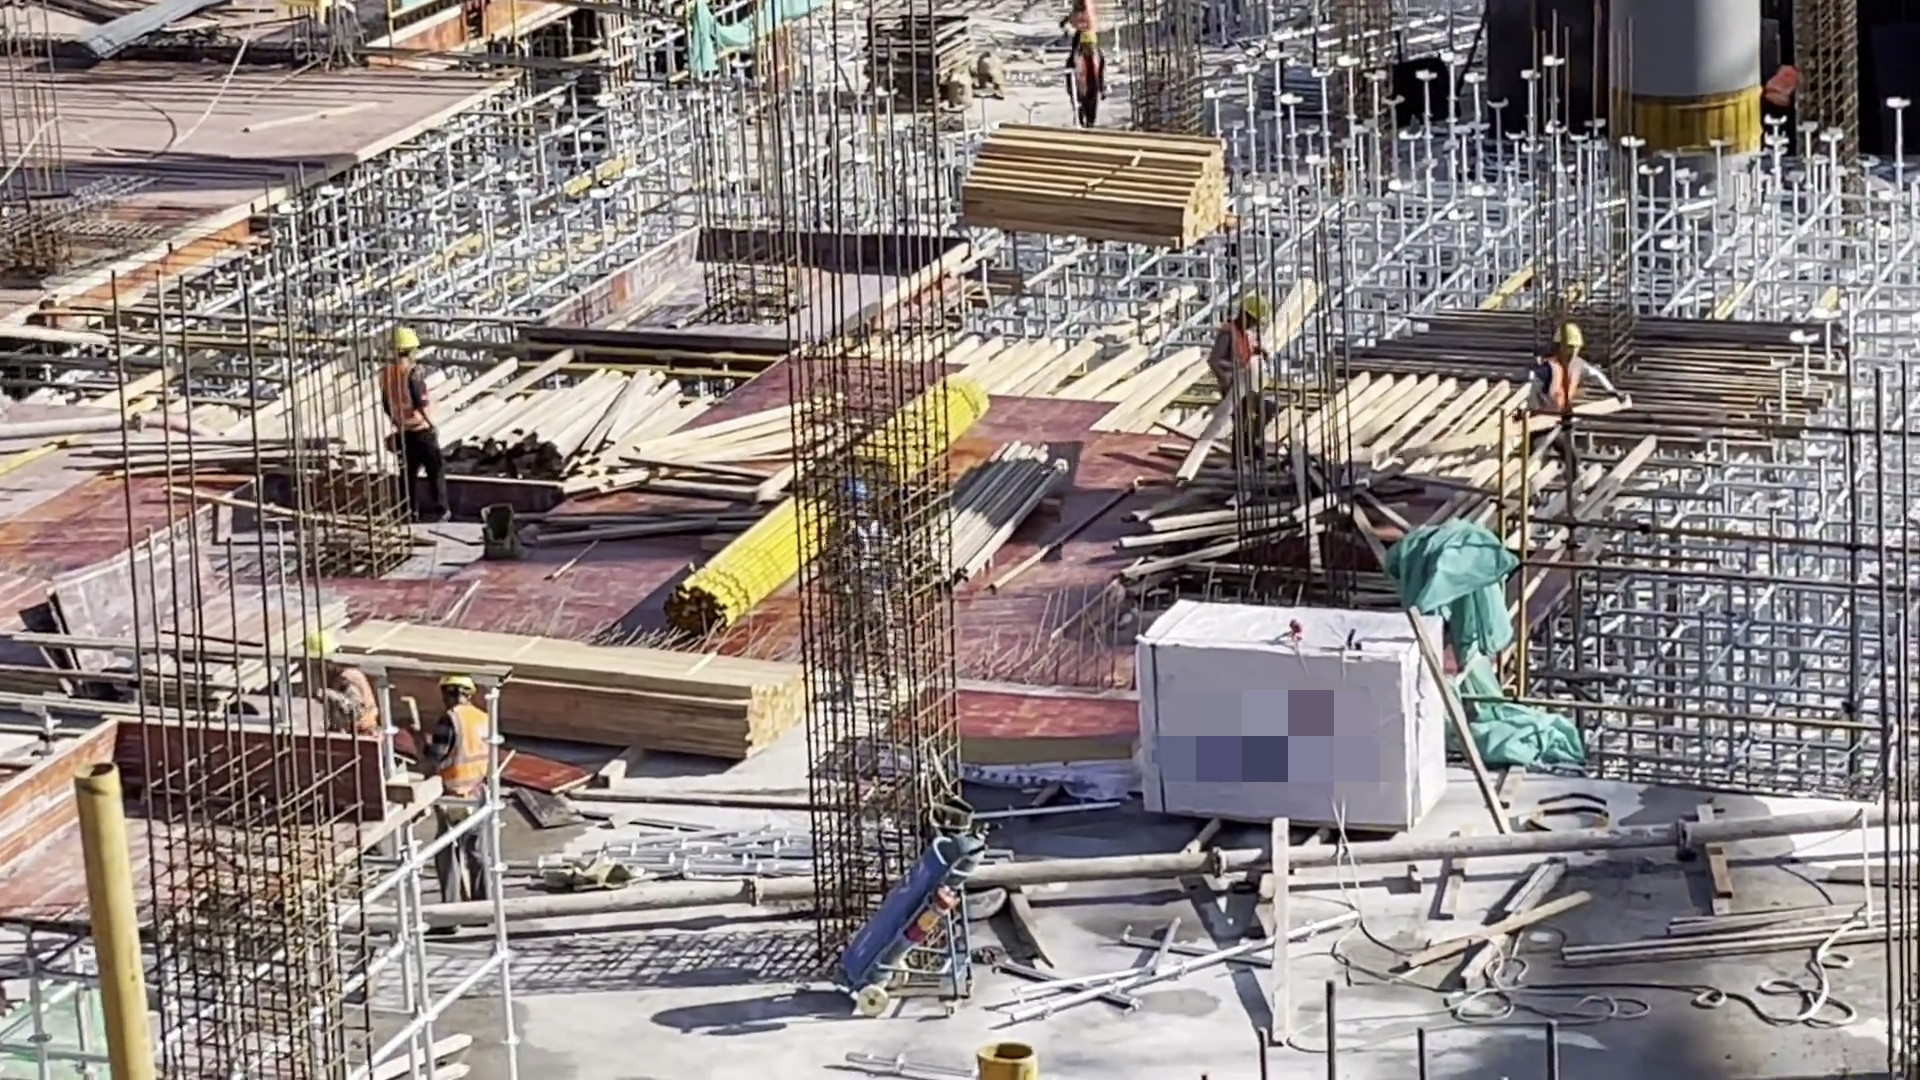helmet: (1548, 322, 1582, 351), (309, 632, 341, 660), (388, 328, 422, 355), (1241, 296, 1274, 321), (1079, 31, 1097, 46)
person: (411, 676, 511, 908), (824, 482, 904, 715), (384, 327, 456, 524), (1526, 319, 1591, 478), (300, 624, 380, 738), (1214, 291, 1269, 405), (1065, 30, 1104, 128), (1761, 56, 1795, 136), (1058, 1, 1100, 64)
rebar: (56, 1, 240, 68)
vest: (436, 705, 498, 795), (320, 668, 376, 738), (382, 362, 426, 443), (1216, 320, 1257, 402), (1541, 359, 1586, 411), (1068, 47, 1101, 98), (1768, 69, 1793, 115)
wood: (501, 367, 841, 512), (511, 629, 815, 768), (958, 122, 1236, 254)
